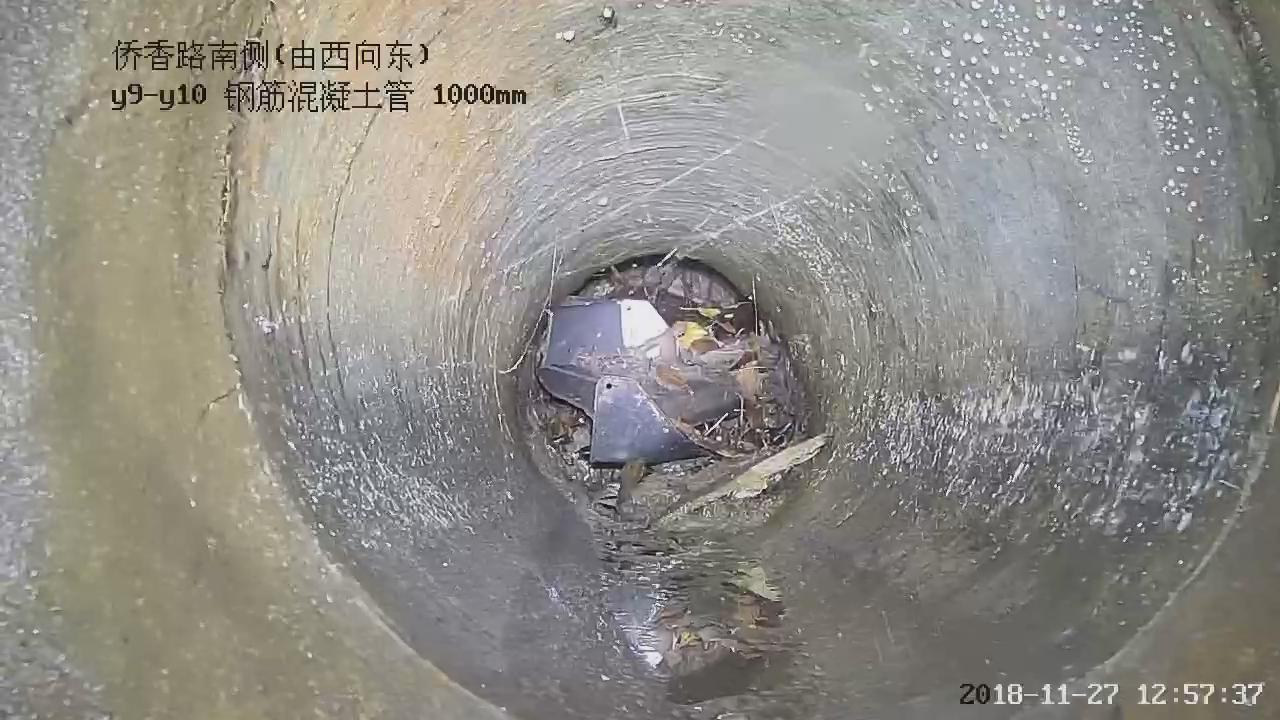ZAW: (536, 256, 825, 516)
